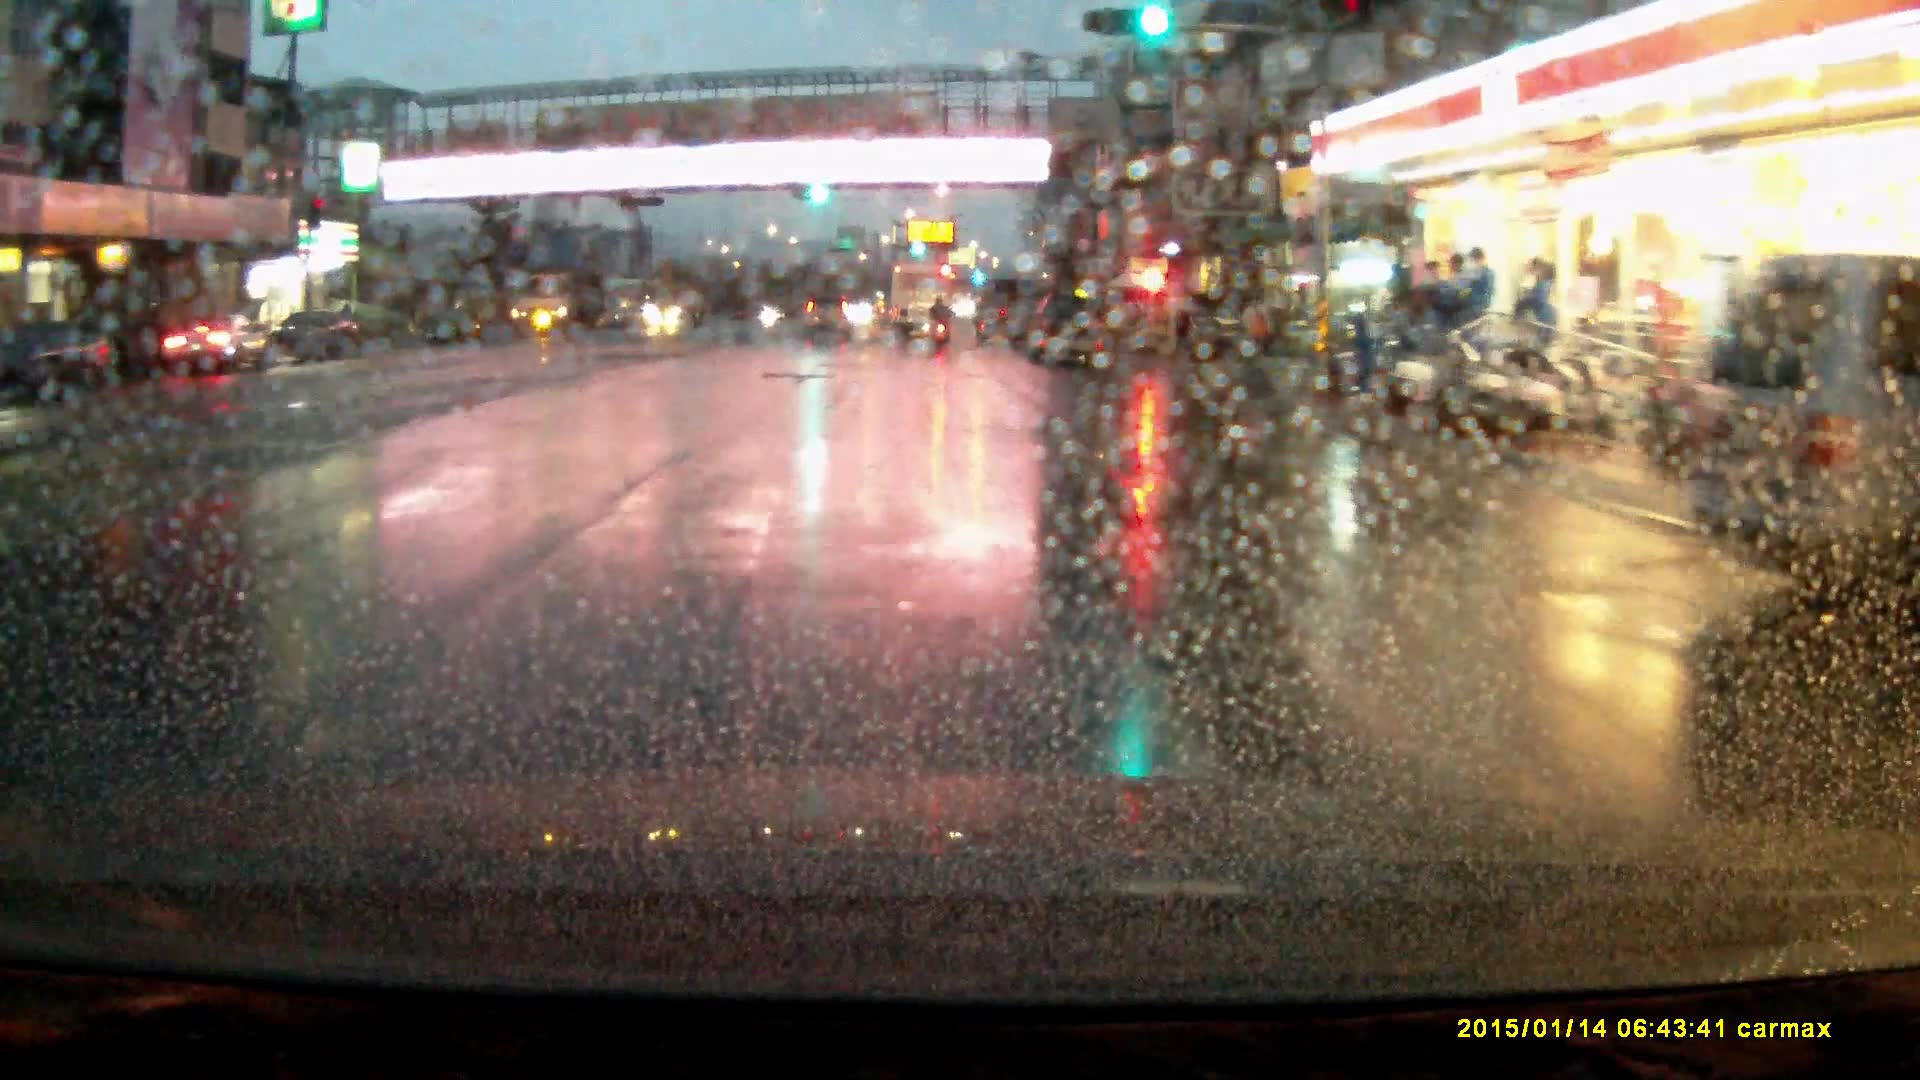rider: (930, 293, 956, 348)
vehicle: (509, 266, 606, 338), (161, 315, 269, 376), (1031, 290, 1107, 370), (266, 309, 370, 365), (1182, 297, 1266, 359), (892, 258, 952, 341), (651, 283, 709, 329), (804, 296, 858, 343)
